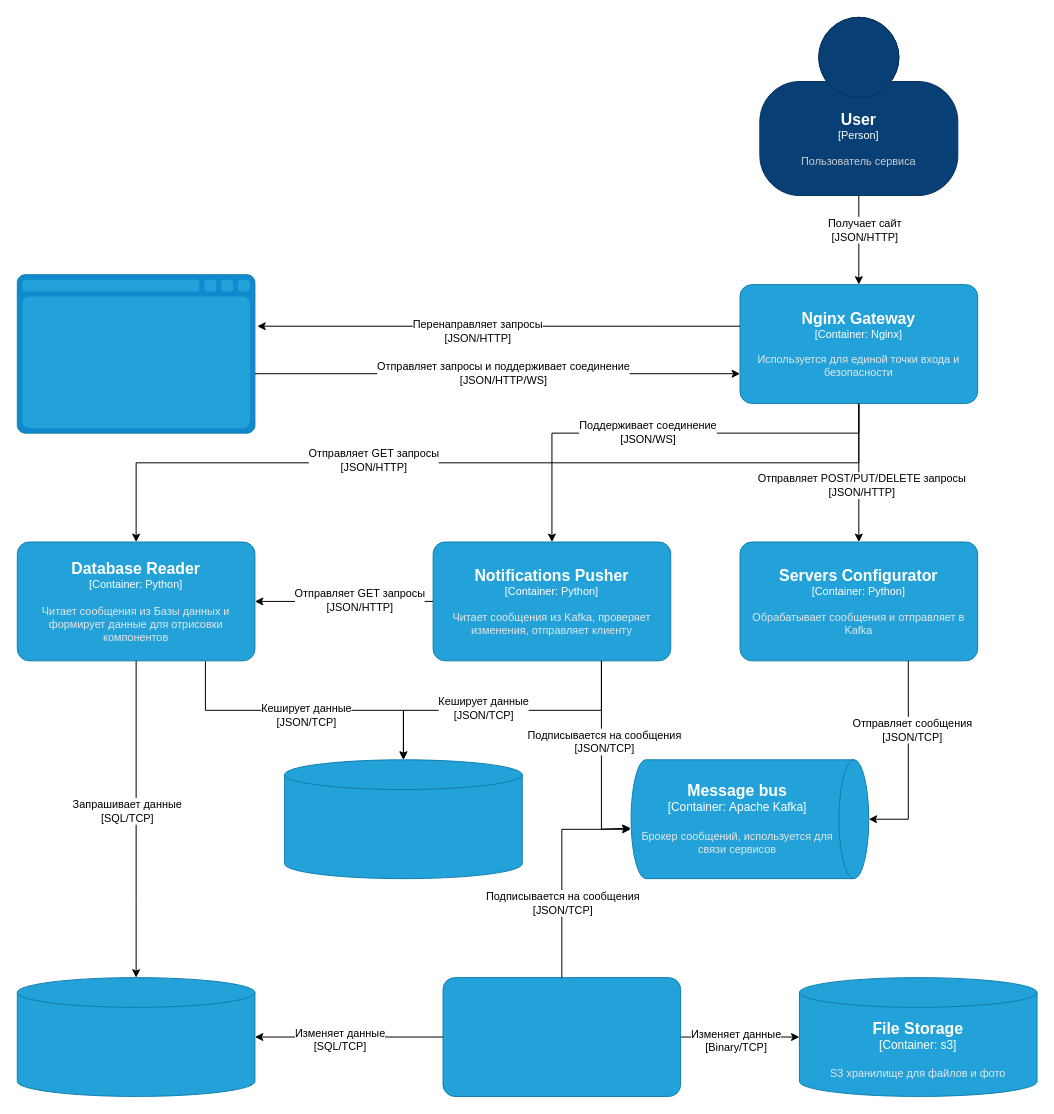
Image size: 1054x1114. Some labels were removed from this diagram. Here are the shapes that lost their labels. From the top down, the box of each, then its label:
(16, 274, 255, 433): Web [Container: Typescript] Клиентский интерфейс
(284, 759, 522, 879): Cache [Container: Redis] Быстрый кеш для сохранения временных данных
(16, 977, 255, 1096): Database [Container: Postgres] Основная реляционная база данных
(442, 977, 681, 1096): Database Configurator [Container: Python] Читает сообщения из Kafka, пишет в БД
